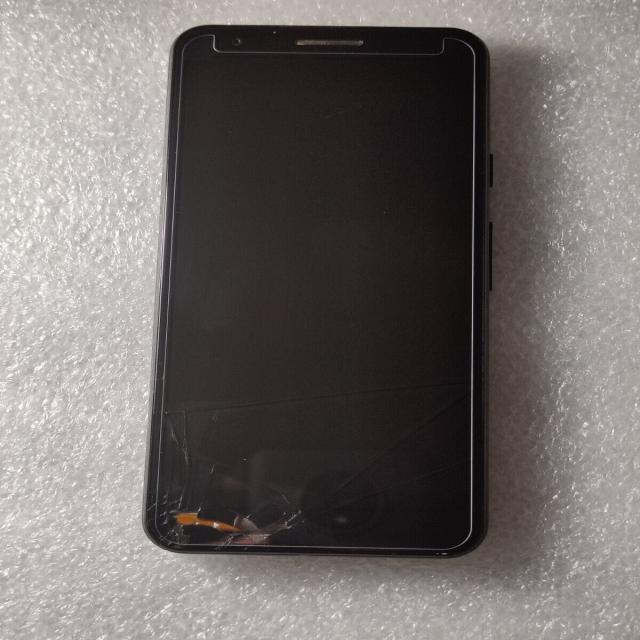Crack: (120, 425, 481, 556)
